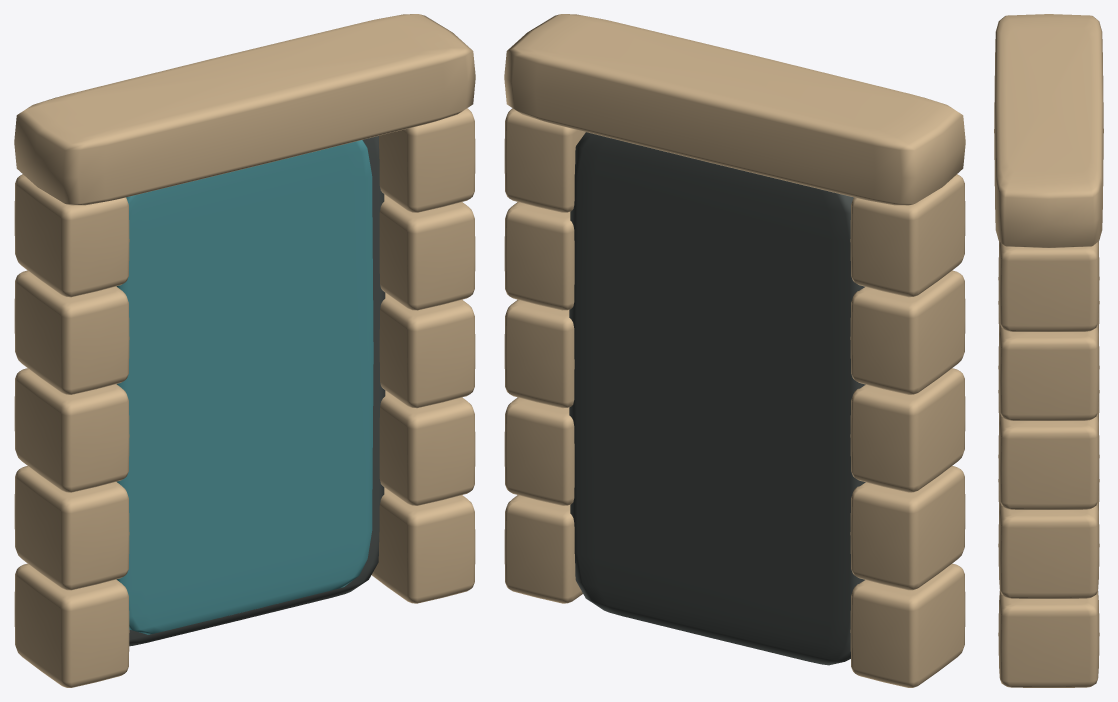
Rendered from door_open.fbx.
3 views of the same model, side by side, from view 1: azimuth 30°, elevation 25°; view 2: azimuth 150°, elevation 25°; view 3: azimuth 270°, elevation 25° (orthographic). The views are drawn at different scales.
Parts seen in each view (by area): view 1: door_open_mesh; view 2: door_open_mesh; view 3: door_open_mesh.
Part boxes in pixels (left/top/right/bottom): door_open_mesh: left=14, top=14, right=475, bottom=687; door_open_mesh: left=504, top=14, right=965, bottom=687; door_open_mesh: left=994, top=14, right=1103, bottom=687.
Bounding box in the file's own units: 1.53 × 1.92 × 0.38.
